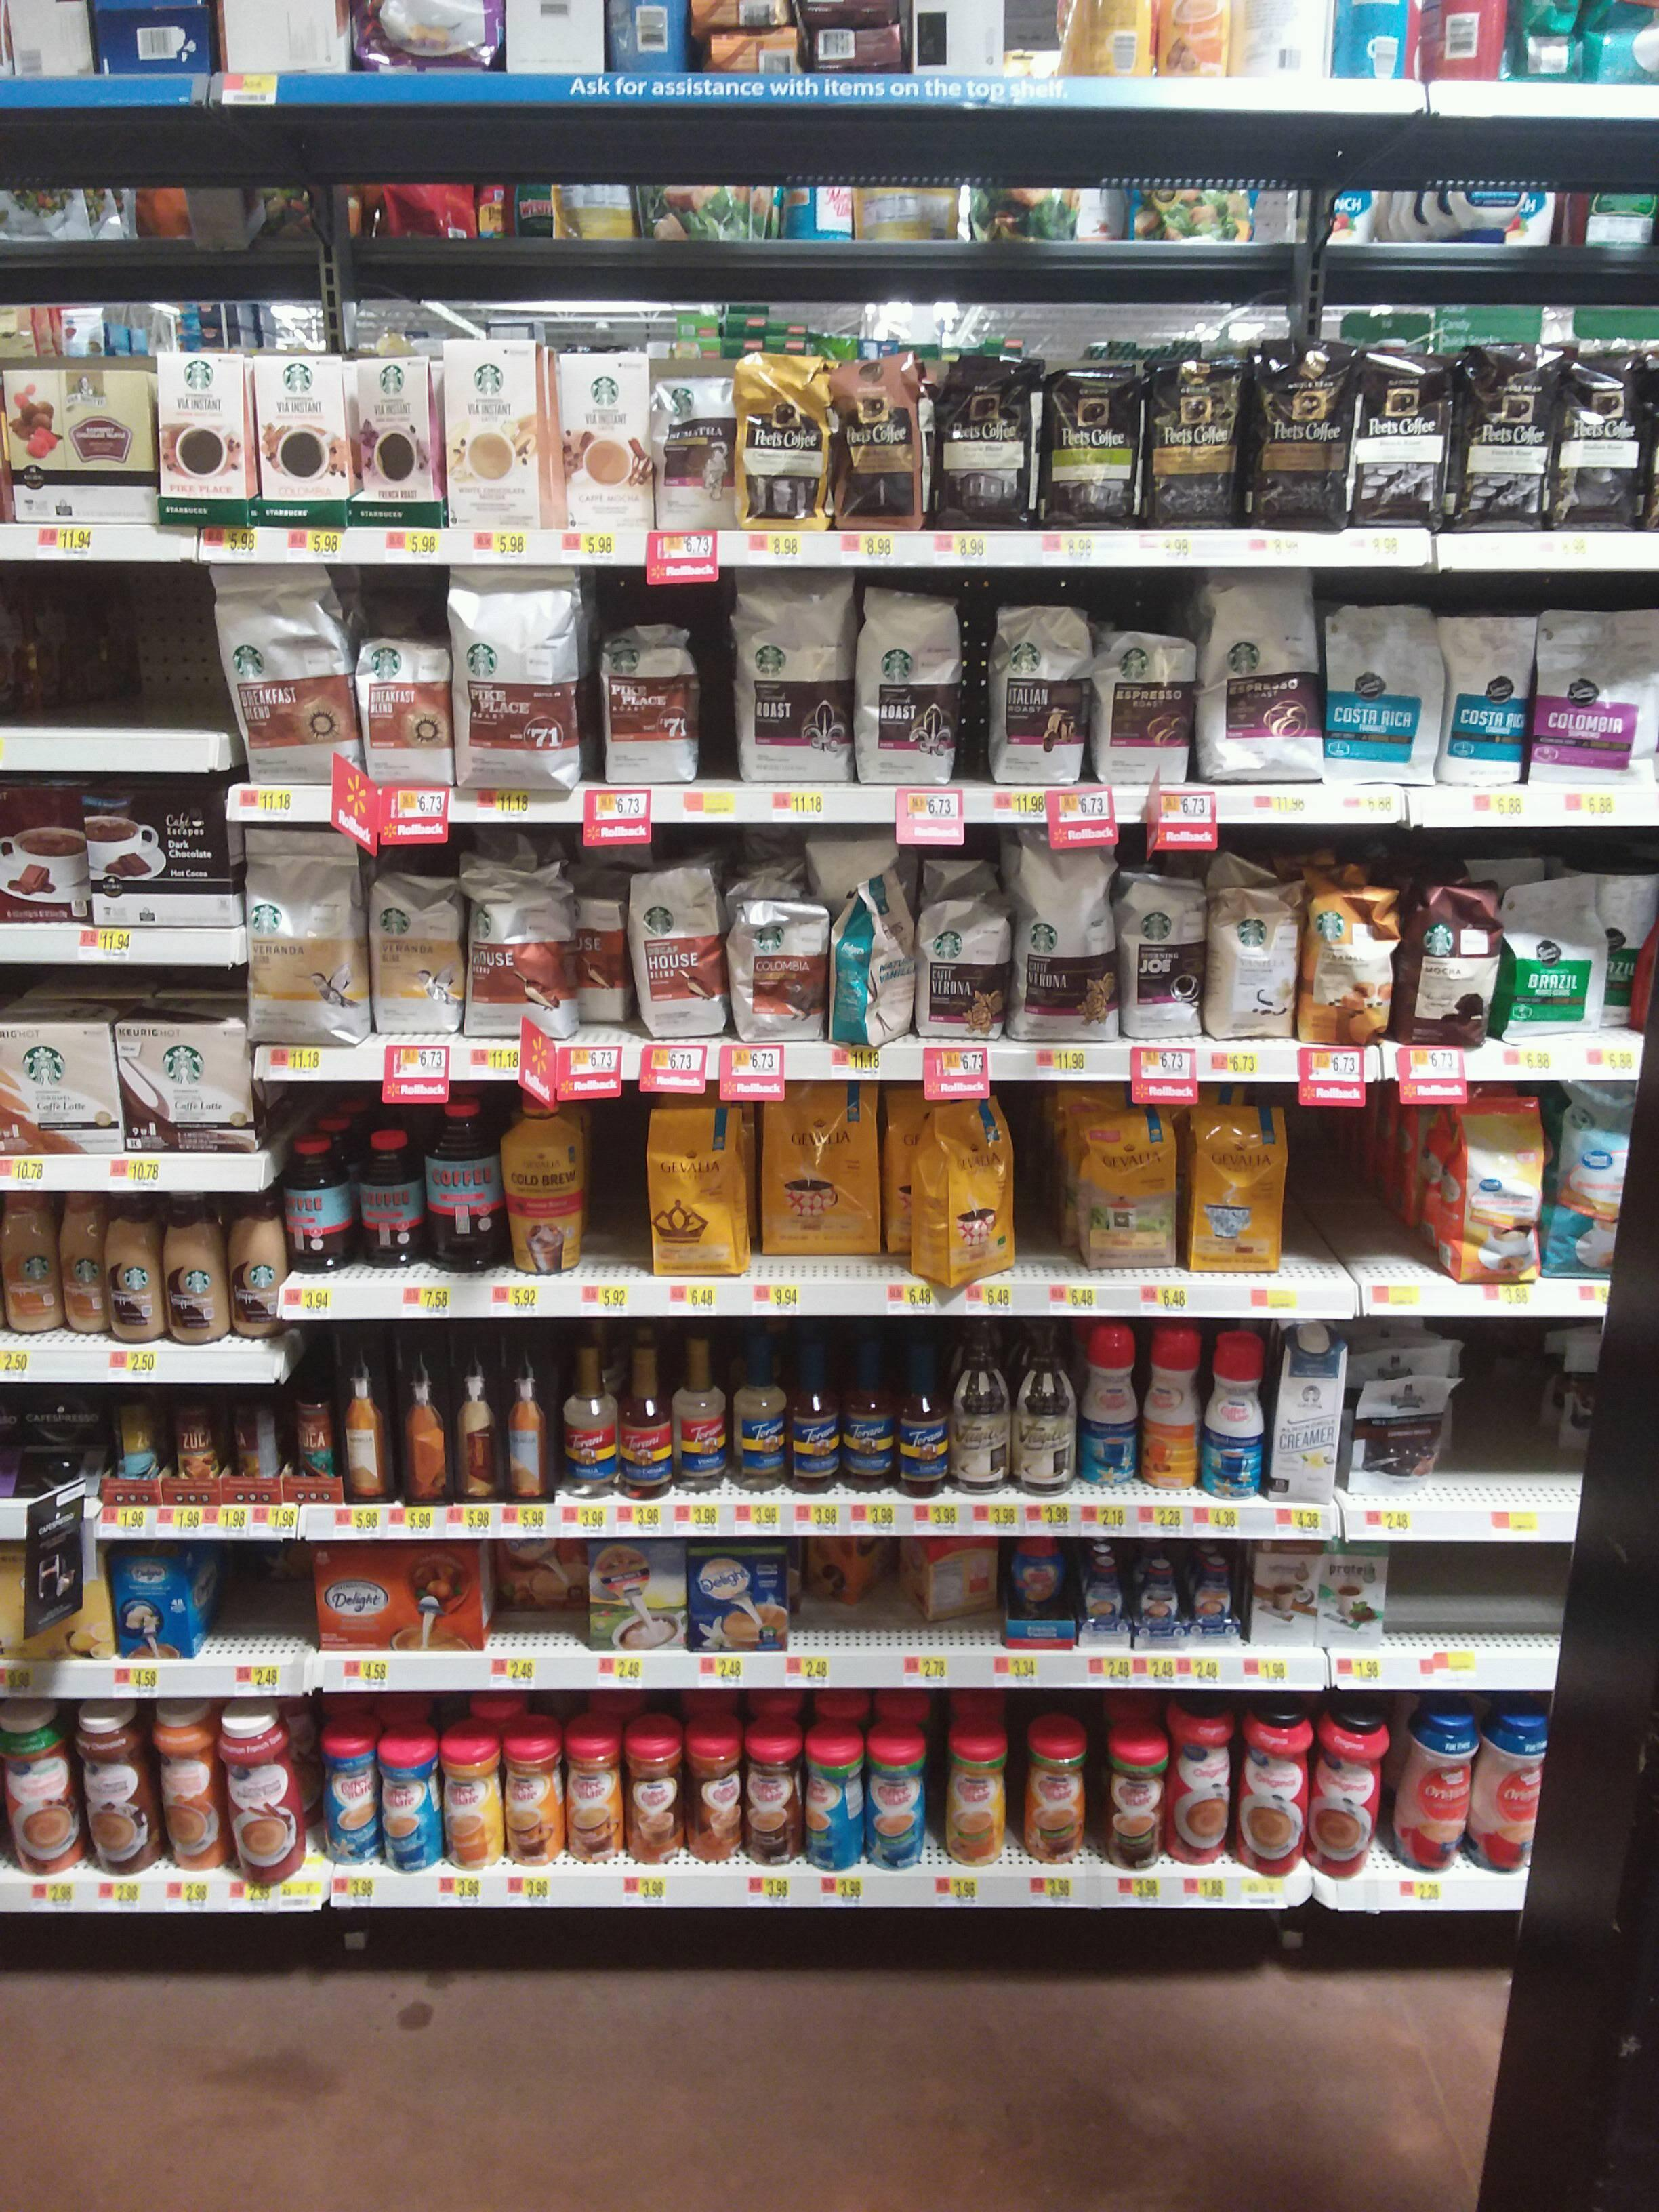empty: (21, 577, 216, 732), (1293, 1118, 1399, 1277), (1457, 1338, 1553, 1494), (582, 1118, 653, 1277), (803, 1548, 903, 1648), (202, 1554, 301, 1653), (488, 1561, 587, 1658), (1391, 1547, 1471, 1646), (1478, 1548, 1558, 1646)
